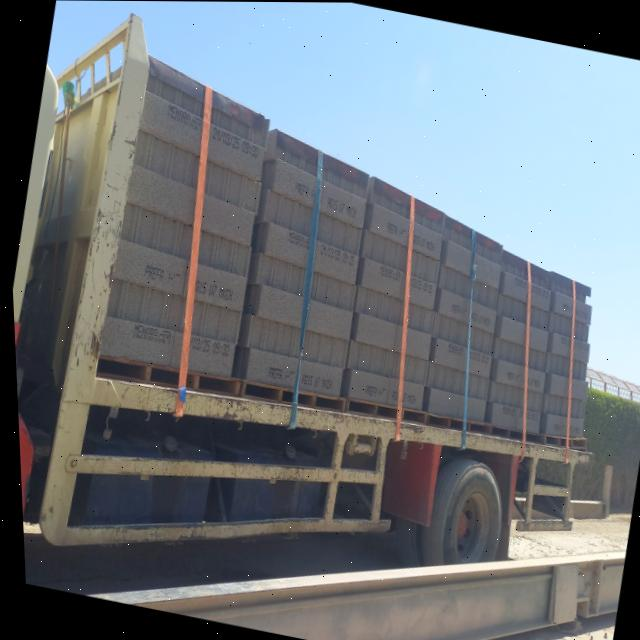bricks: (141, 1, 640, 610), (299, 154, 591, 439), (185, 92, 321, 387), (101, 57, 206, 368)
